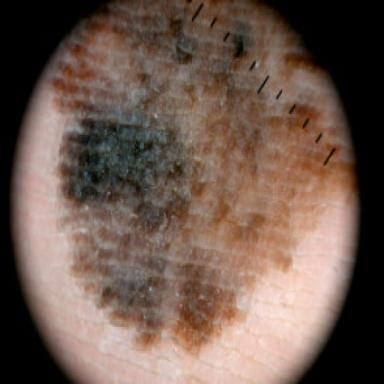Melanoma: (54, 1, 330, 355)
